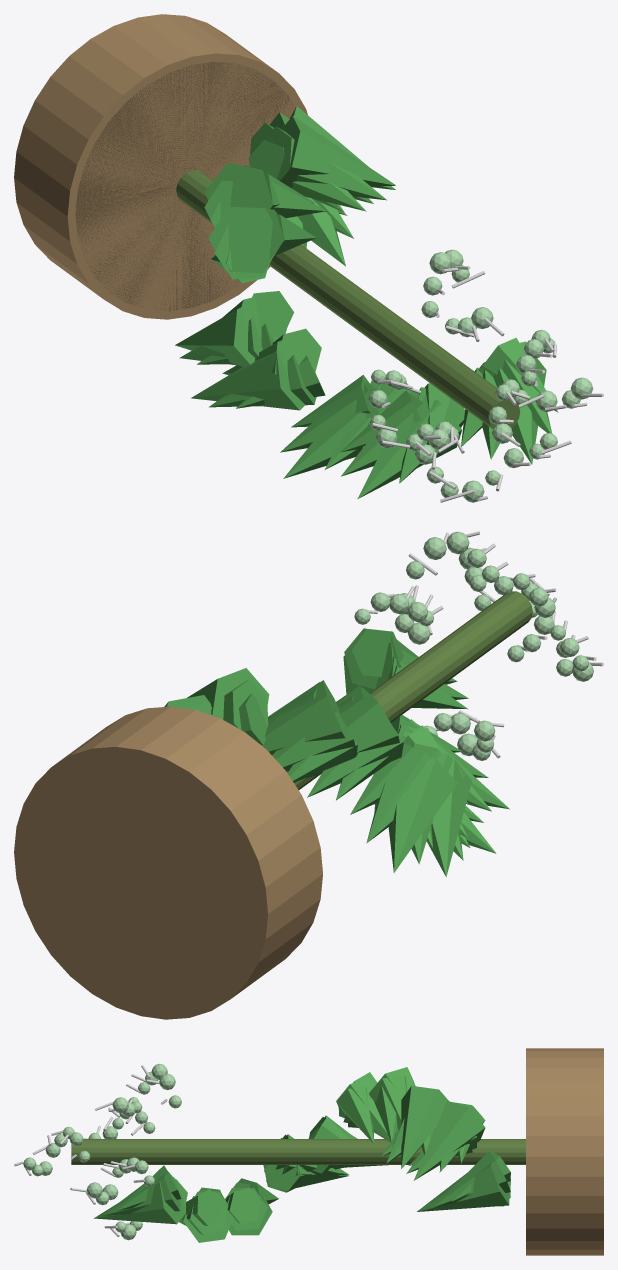
The model's file is stage_6_fioritura_iniziale.glb.
3 renders of one model, top to bottom at view 1: azimuth 30°, elevation 25°; view 2: azimuth 150°, elevation 25°; view 3: azimuth 270°, elevation 25°, orthographic. The views are drawn at different scales.
Visible parts, largest first — view 1: world; view 2: world; view 3: world.
Boxes of the visible parts, x1,y1,x2,y2 form: world: [14, 14, 603, 502]; world: [14, 531, 603, 1019]; world: [14, 1048, 603, 1255].
Bounding box in the file's own units: 16.22 × 16 × 45.42.
